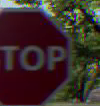Stop: (0, 3, 75, 105)
